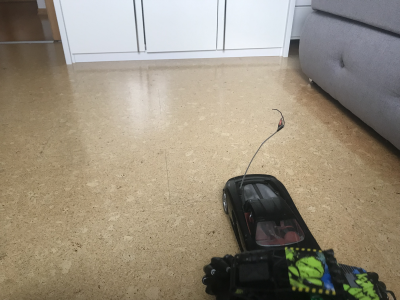remote control car: (194, 247, 400, 299)
